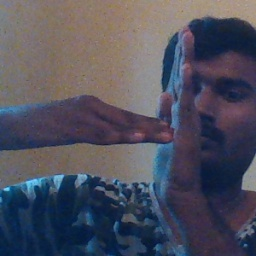Z: (96, 24, 205, 197)
